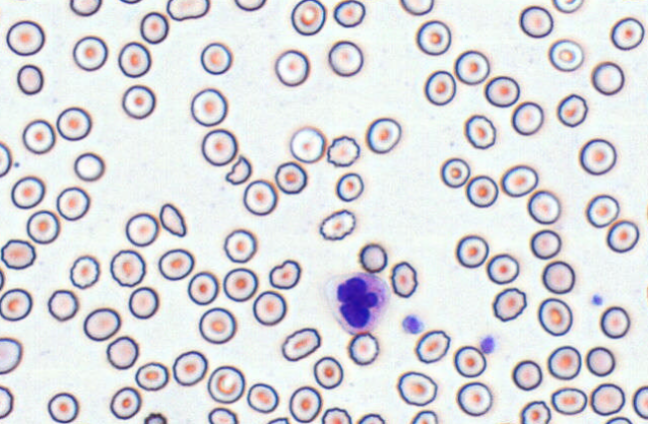GRAN: (324, 269, 393, 337)
PLT: (401, 313, 428, 335), (479, 334, 499, 353), (592, 291, 605, 308)
RBC: (206, 365, 245, 404), (396, 370, 437, 406), (6, 19, 45, 56), (190, 87, 227, 126), (198, 307, 236, 344), (109, 249, 146, 287), (579, 137, 616, 175), (201, 128, 237, 166), (537, 297, 572, 336), (281, 327, 321, 361), (453, 49, 490, 85), (289, 126, 325, 163), (72, 35, 108, 71), (365, 117, 401, 153), (415, 19, 451, 55), (274, 49, 309, 86), (83, 307, 121, 341), (252, 290, 287, 326), (172, 350, 207, 386), (242, 179, 277, 215), (456, 381, 492, 416), (222, 267, 258, 302), (290, 0, 326, 35), (328, 40, 363, 76), (288, 385, 322, 422), (500, 164, 538, 197), (414, 329, 450, 363), (589, 382, 625, 416), (117, 41, 151, 77), (318, 208, 356, 240), (585, 193, 619, 228), (56, 186, 90, 221), (26, 209, 60, 244), (10, 175, 45, 209), (125, 212, 159, 247), (547, 345, 581, 380), (56, 106, 91, 140), (121, 84, 155, 119), (22, 118, 55, 154), (548, 38, 584, 71), (157, 248, 194, 280), (610, 16, 644, 50), (492, 287, 526, 321), (541, 260, 575, 294), (223, 228, 256, 263), (591, 60, 624, 95), (511, 100, 544, 135), (527, 189, 560, 224), (463, 114, 496, 149), (484, 75, 520, 107), (424, 69, 456, 105), (326, 134, 360, 167), (106, 335, 139, 369), (519, 5, 553, 38), (606, 219, 639, 253), (455, 234, 488, 268), (0, 238, 36, 269), (453, 345, 486, 378), (274, 161, 307, 194), (465, 174, 498, 207), (347, 331, 379, 365), (0, 287, 32, 321), (187, 271, 219, 305), (69, 254, 100, 289), (550, 386, 587, 415), (389, 260, 417, 298), (109, 386, 141, 419), (200, 42, 232, 75), (556, 93, 587, 127), (134, 361, 169, 391), (246, 382, 279, 413), (268, 258, 301, 289), (128, 286, 159, 319), (486, 253, 519, 284), (599, 305, 630, 338), (313, 355, 343, 389), (511, 359, 542, 391), (47, 289, 78, 321), (139, 11, 169, 44), (47, 392, 78, 423), (529, 229, 561, 259), (73, 151, 105, 181), (440, 157, 470, 188), (585, 346, 615, 377), (166, 0, 209, 21), (358, 242, 387, 273), (333, 0, 365, 27), (16, 63, 43, 95), (335, 172, 363, 202), (0, 336, 22, 374), (519, 400, 551, 423), (69, 0, 101, 16), (632, 385, 647, 419), (321, 406, 351, 423), (399, 0, 433, 15), (207, 407, 237, 423), (0, 140, 12, 177), (0, 385, 13, 419), (551, 0, 584, 13), (409, 409, 438, 423), (234, 0, 266, 11), (356, 412, 385, 423), (143, 412, 167, 424), (604, 416, 632, 423), (266, 416, 289, 423), (0, 267, 5, 291), (117, 0, 143, 4), (493, 420, 517, 424), (645, 197, 648, 223), (645, 281, 648, 304)
Schistocyte: (158, 201, 190, 241), (225, 155, 252, 185)
